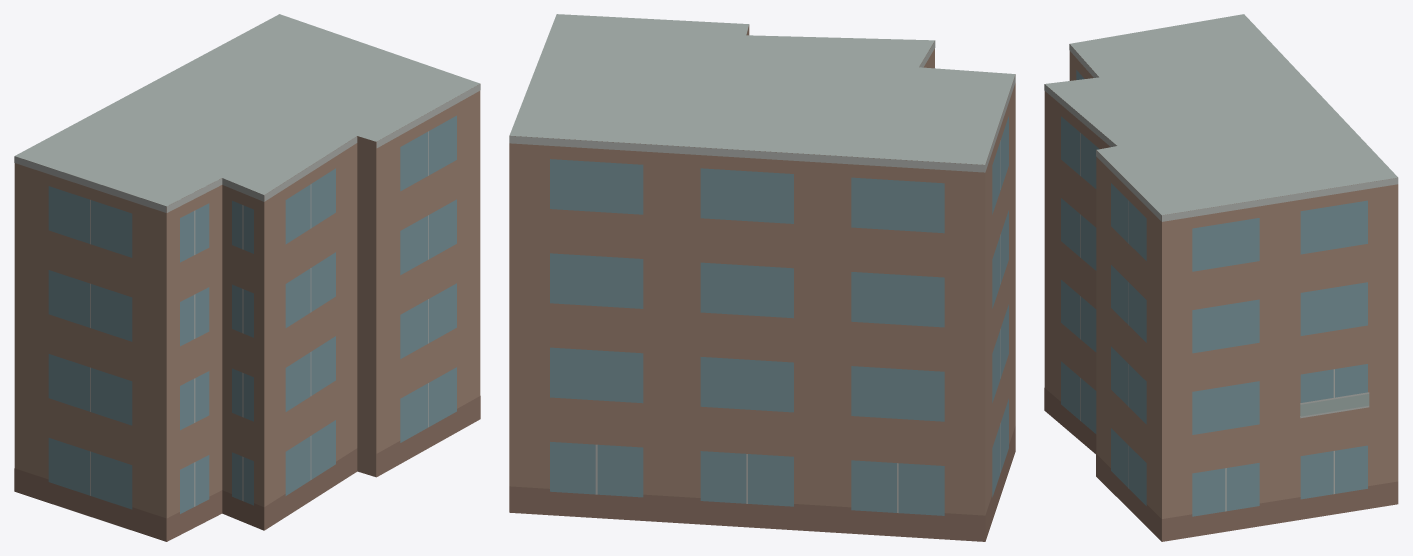
File: survey-upis-32853837.glb
3 views of the same model, side by side, from view 1: azimuth 30°, elevation 25°; view 2: azimuth 150°, elevation 25°; view 3: azimuth 270°, elevation 25° (orthographic). The views are drawn at different scales.
Parts seen in each view (by area): view 1: survey-upis-32853837.tmp; view 2: survey-upis-32853837.tmp; view 3: survey-upis-32853837.tmp.
Part boxes in pixels (bbox=[...]): survey-upis-32853837.tmp: bbox=[14, 14, 480, 541]; survey-upis-32853837.tmp: bbox=[509, 14, 1015, 541]; survey-upis-32853837.tmp: bbox=[1044, 14, 1398, 541].
Bounding box in the file's own units: 15.87 × 12 × 11.79.
